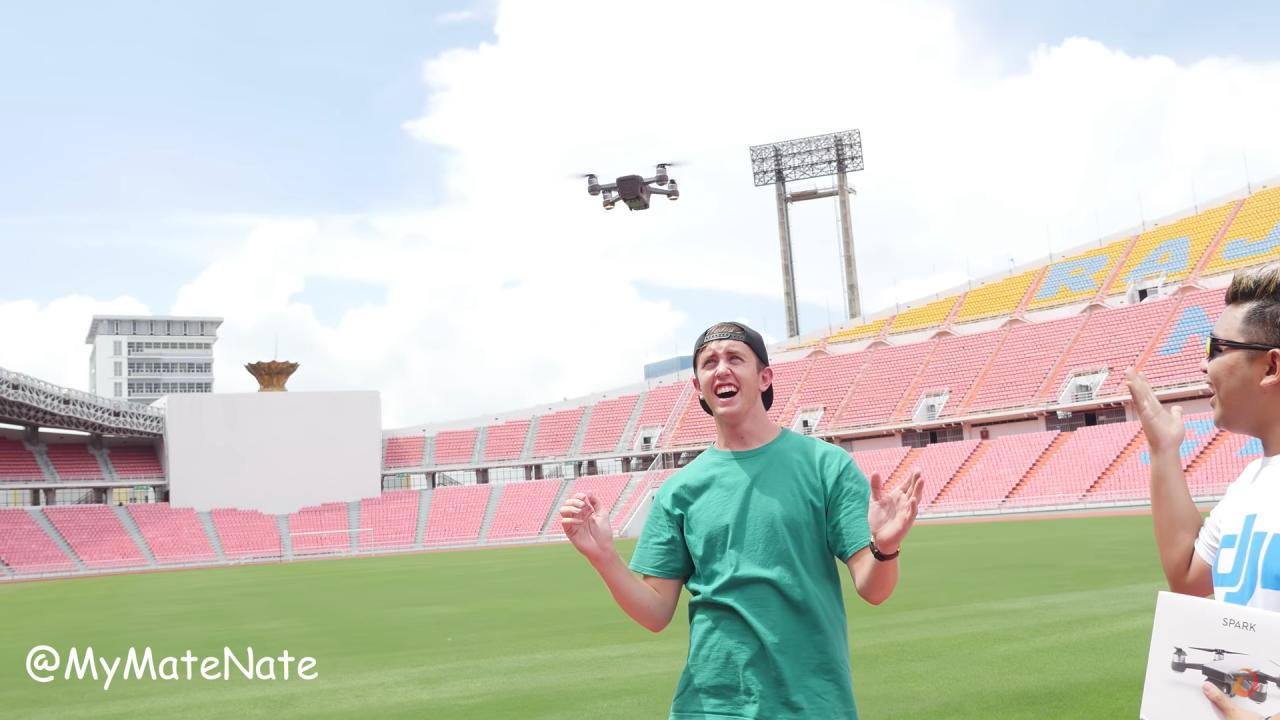Drone: (552, 150, 711, 230)
